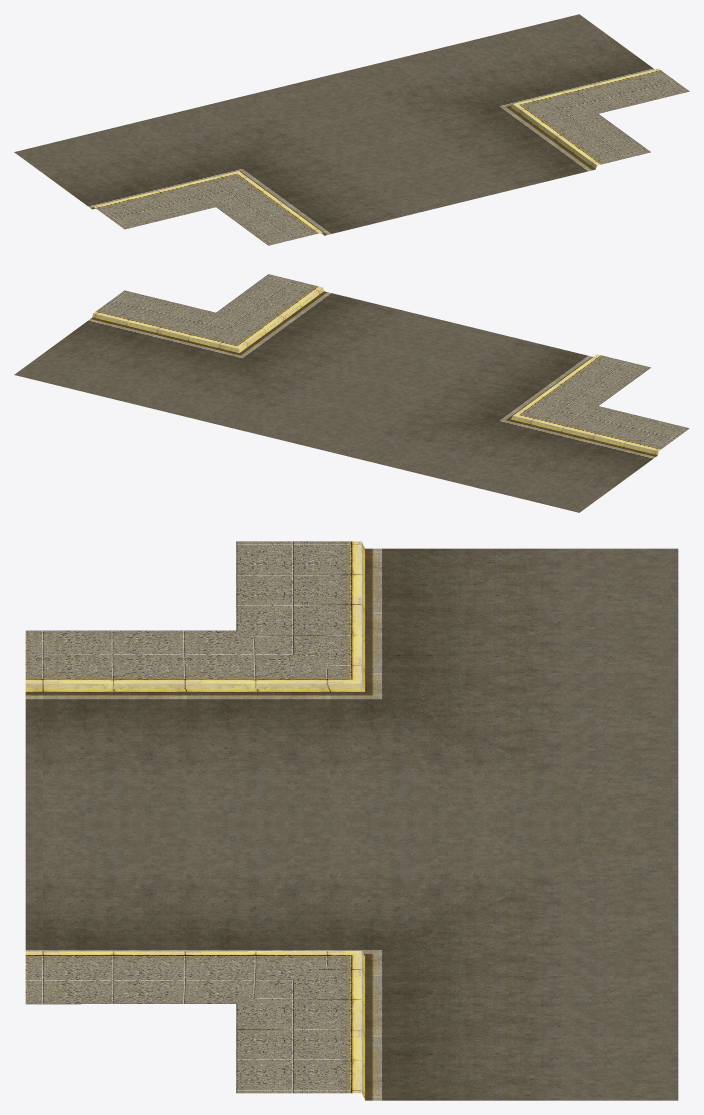
The model's file is Road3_T_E.fbx.
The picture shows the model from 3 angles, top to bottom: view 1: azimuth 30°, elevation 25°; view 2: azimuth 150°, elevation 25°; view 3: azimuth 270°, elevation 25°; orthographic projection. The views are drawn at different scales.
Visible parts, largest first — view 1: Road_T_E; view 2: Road_T_E; view 3: Road_T_E.
Part boxes in pixels (x1,y1,x2,y2): Road_T_E: (14, 14, 689, 245); Road_T_E: (14, 274, 689, 512); Road_T_E: (25, 541, 678, 1100).
Size of the model in its own units: 3331 by 20.38 by 1666.
